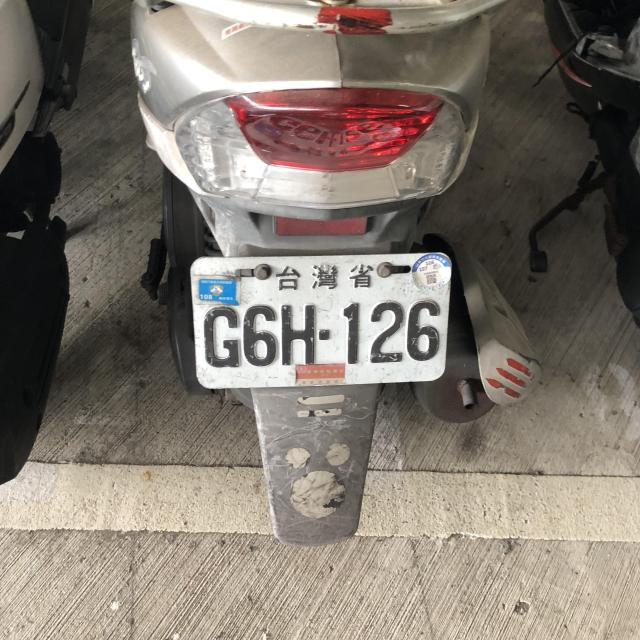W: (184, 246, 455, 389)
